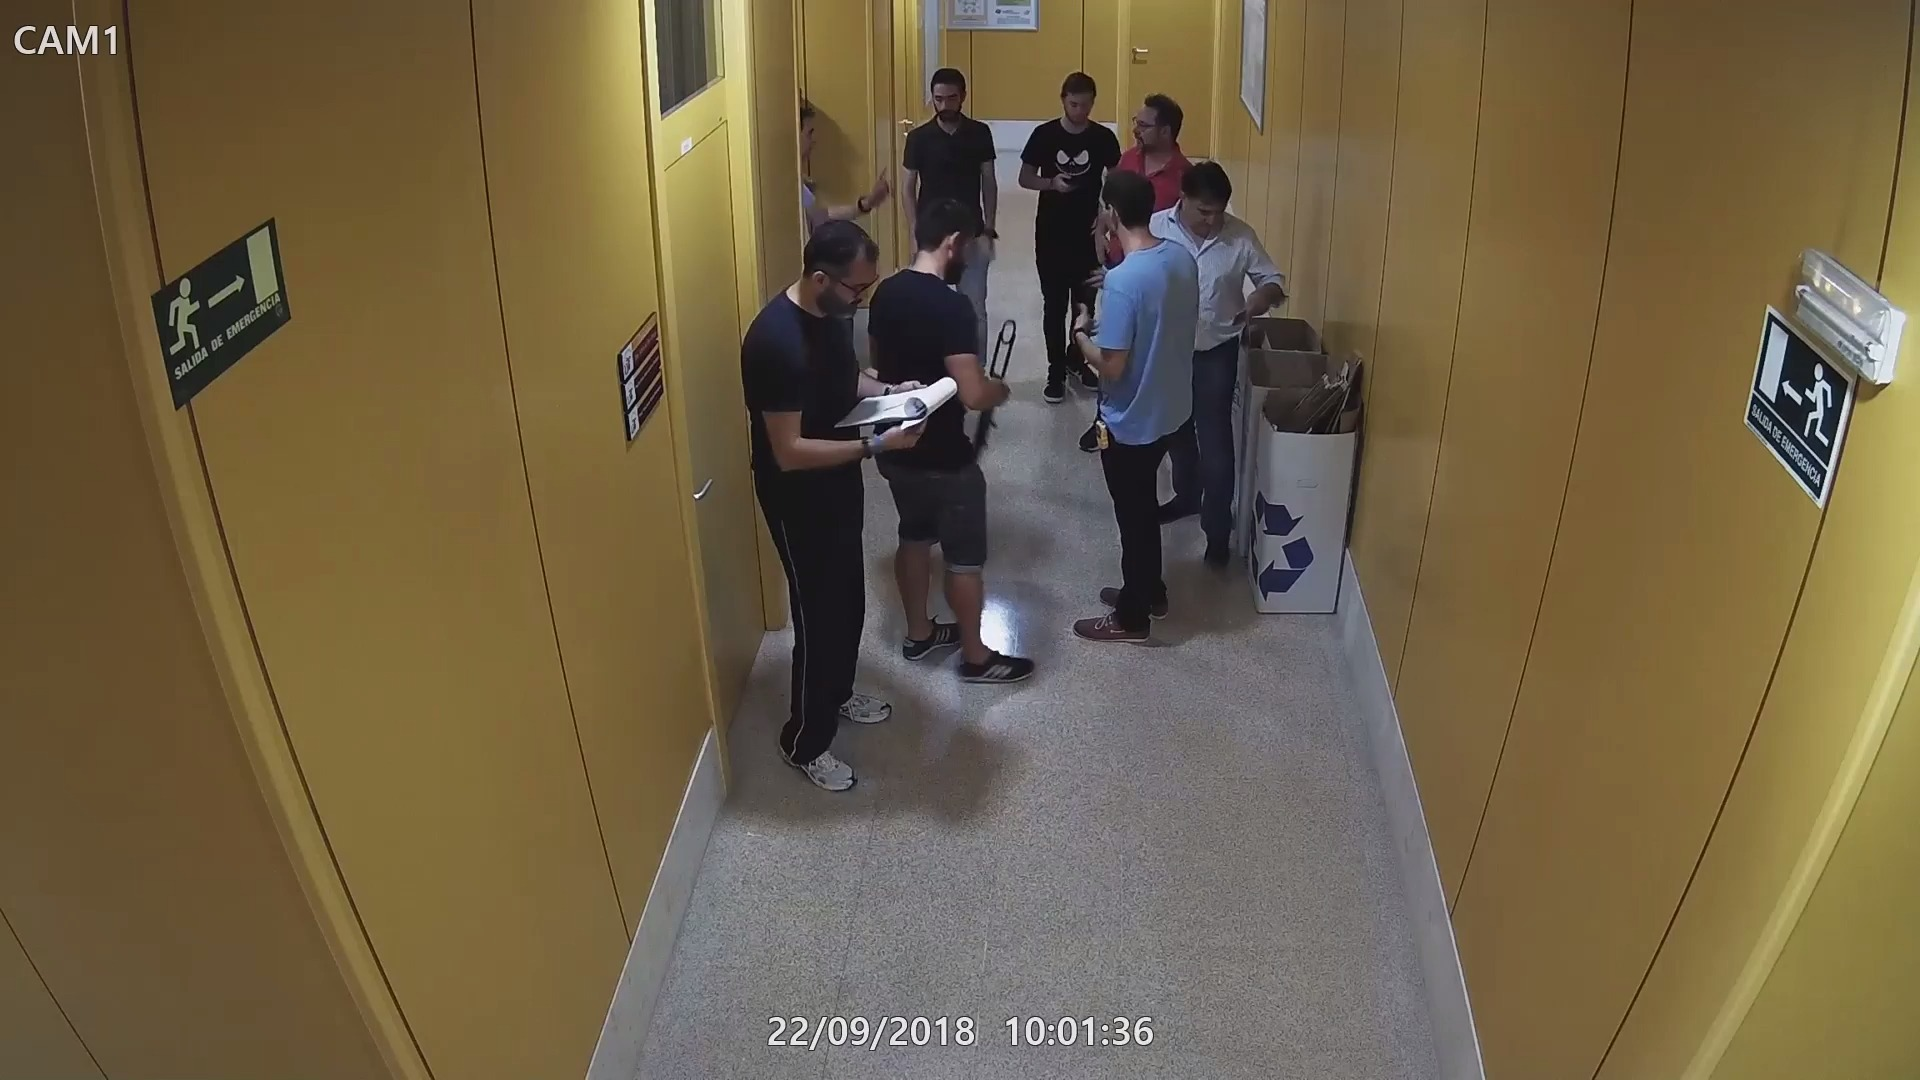Short_rifle: (975, 316, 1015, 454)
